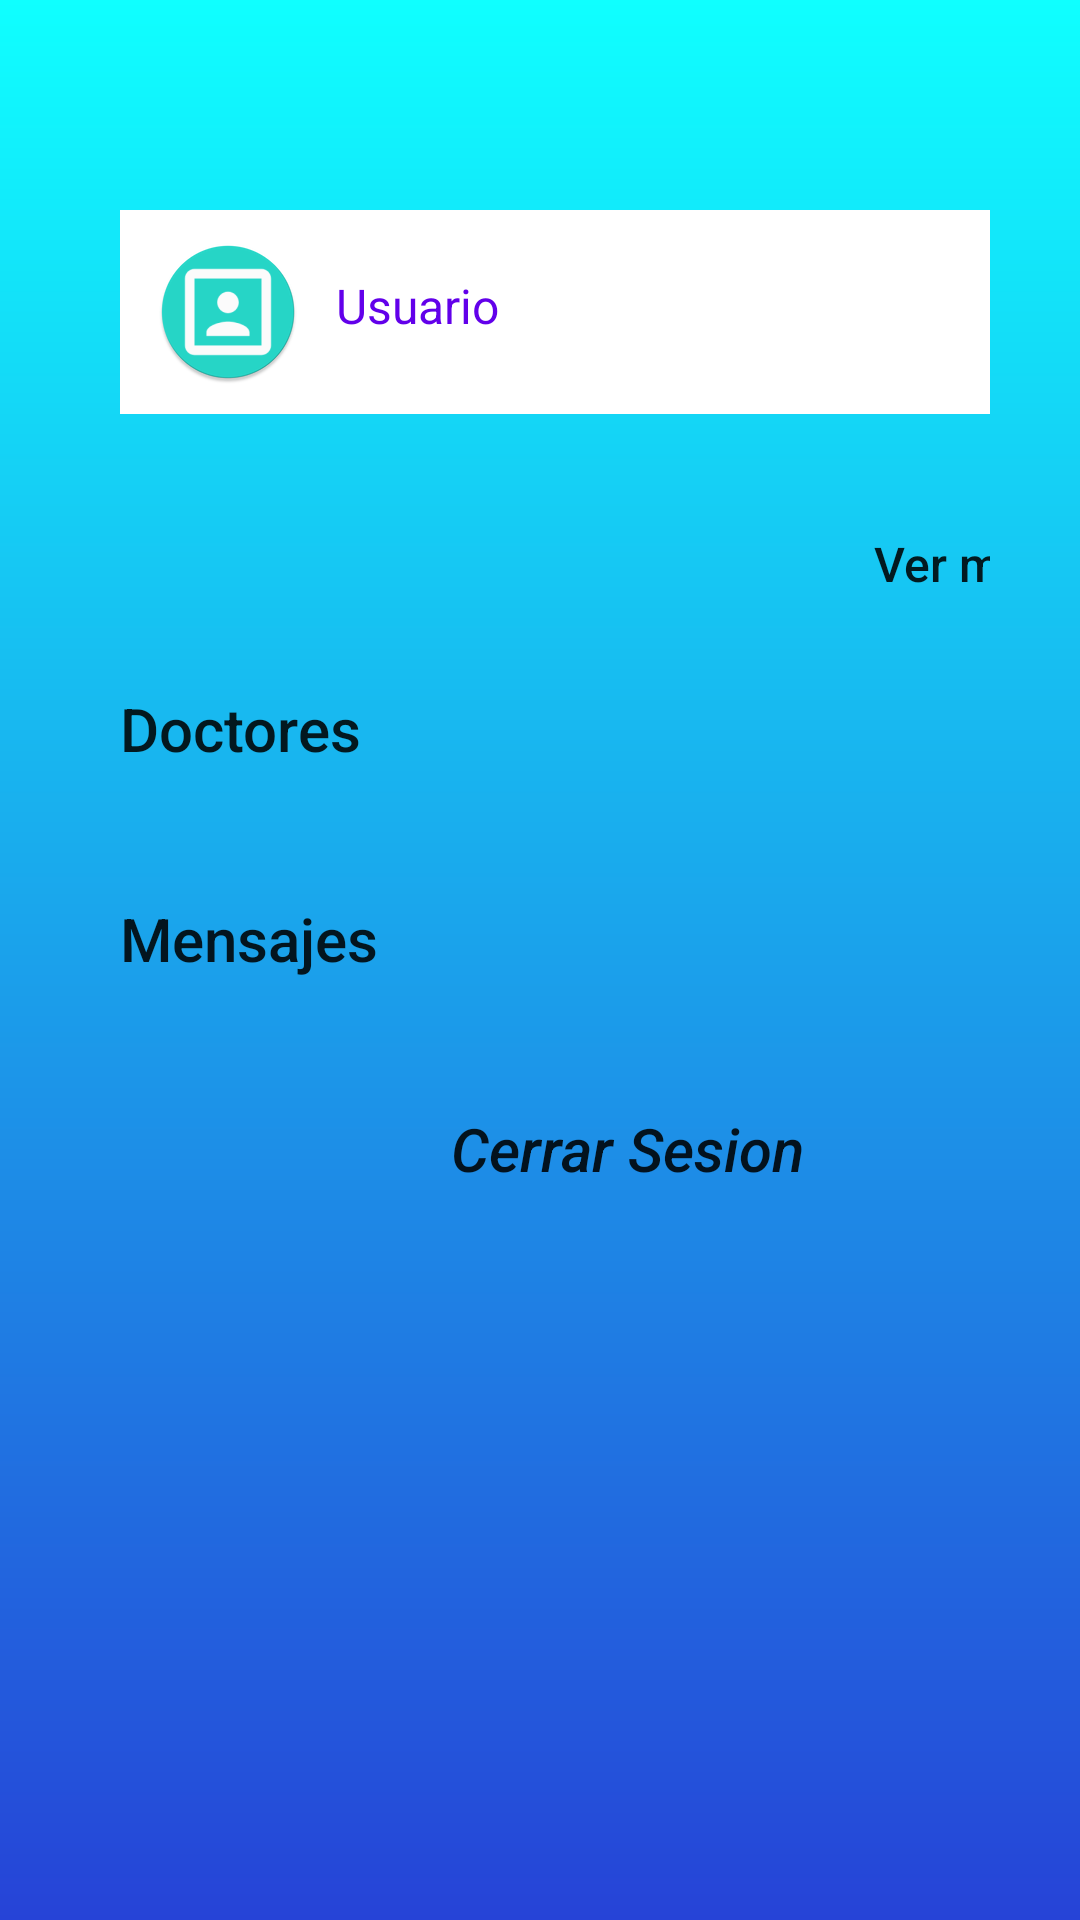

Where to tap for icons on this 1080*1920 app screen, as [x,y]:
perfil round: [228,312]
